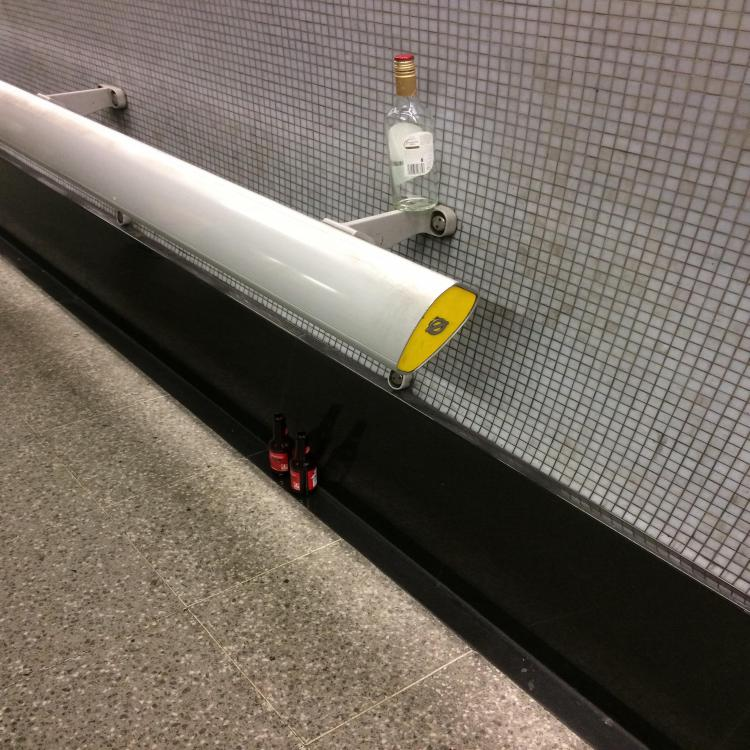Glass bottle: (385, 54, 438, 211), (290, 430, 318, 496), (268, 413, 296, 476)
